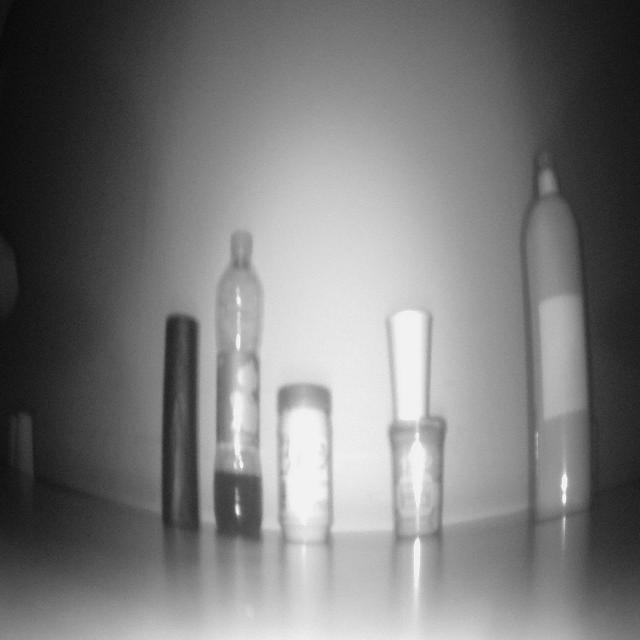targets: (532, 143, 586, 522), (214, 228, 263, 538), (276, 385, 332, 538), (159, 316, 199, 530), (389, 416, 446, 537), (386, 307, 436, 423), (4, 408, 38, 486)
